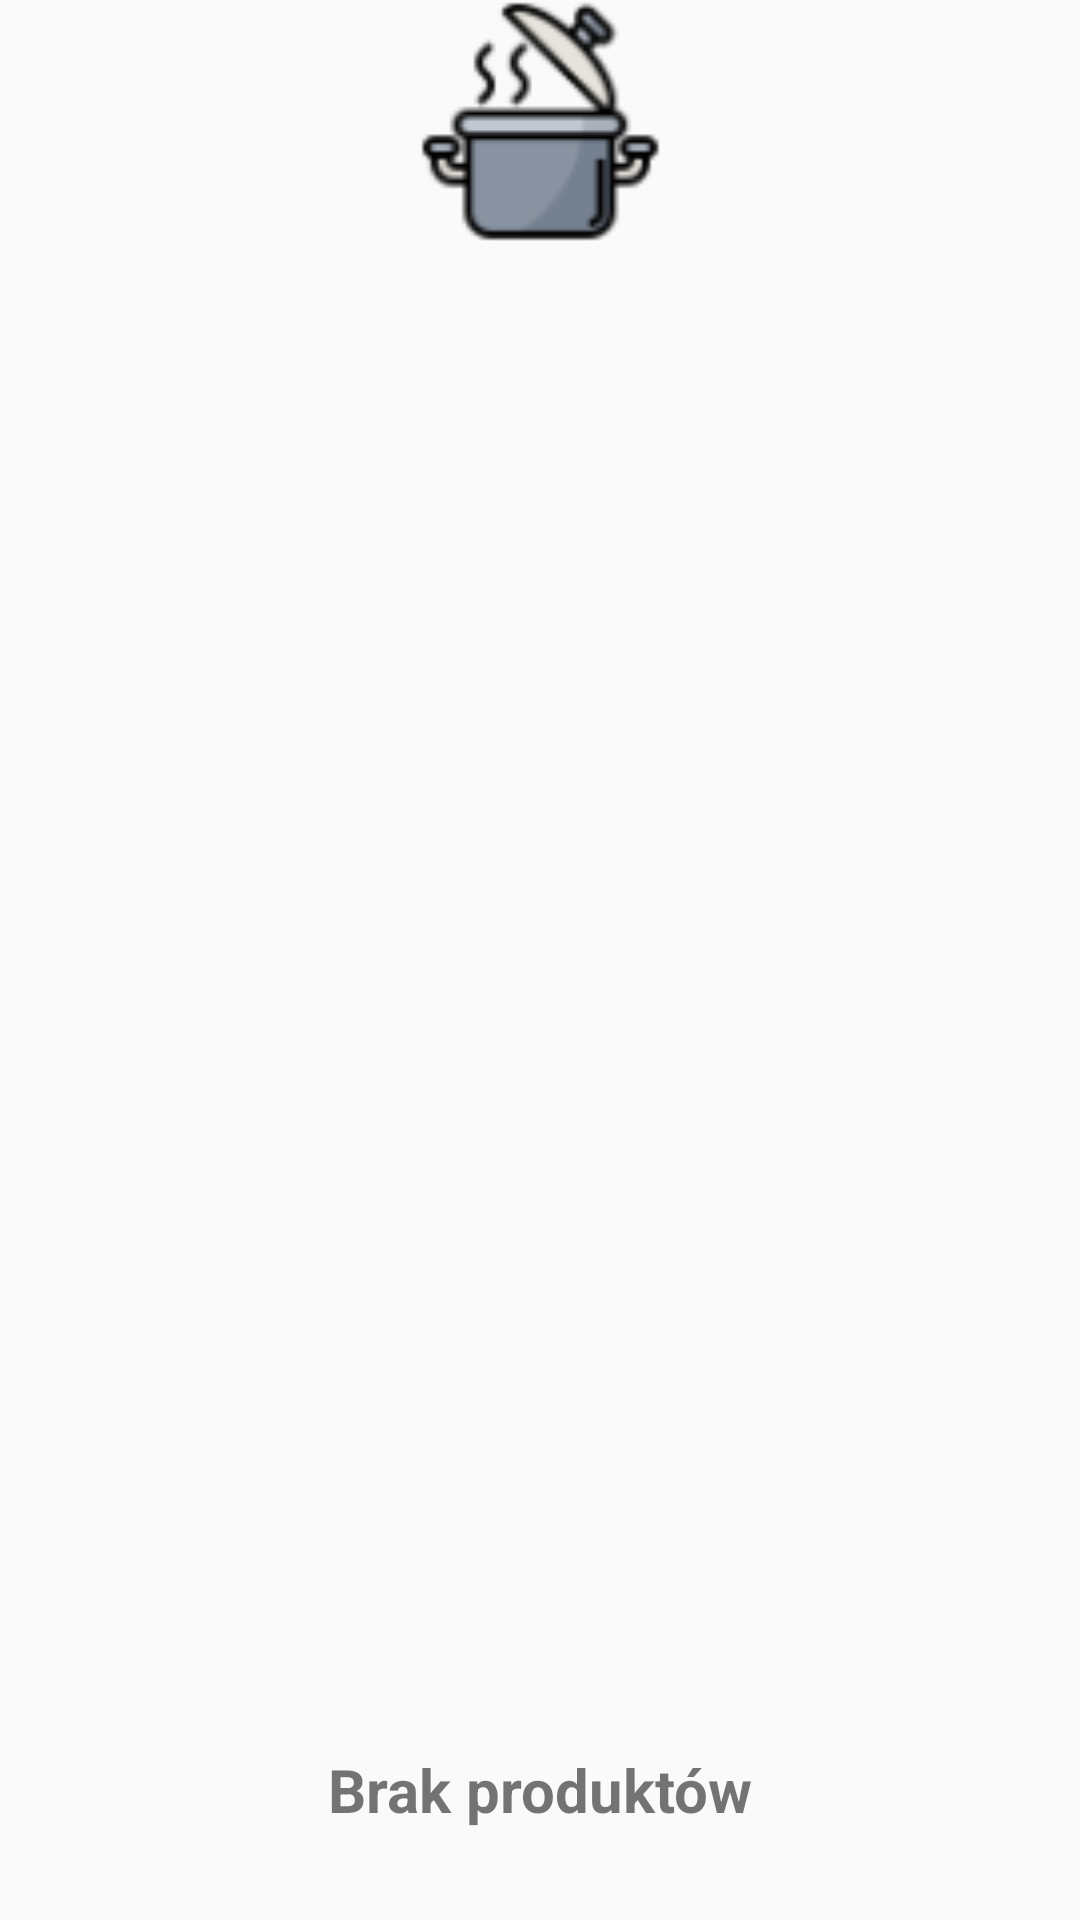

Point at icon controls on the screen. Image size 1080x1920, points as [x,y].
cooking: [540,121]
